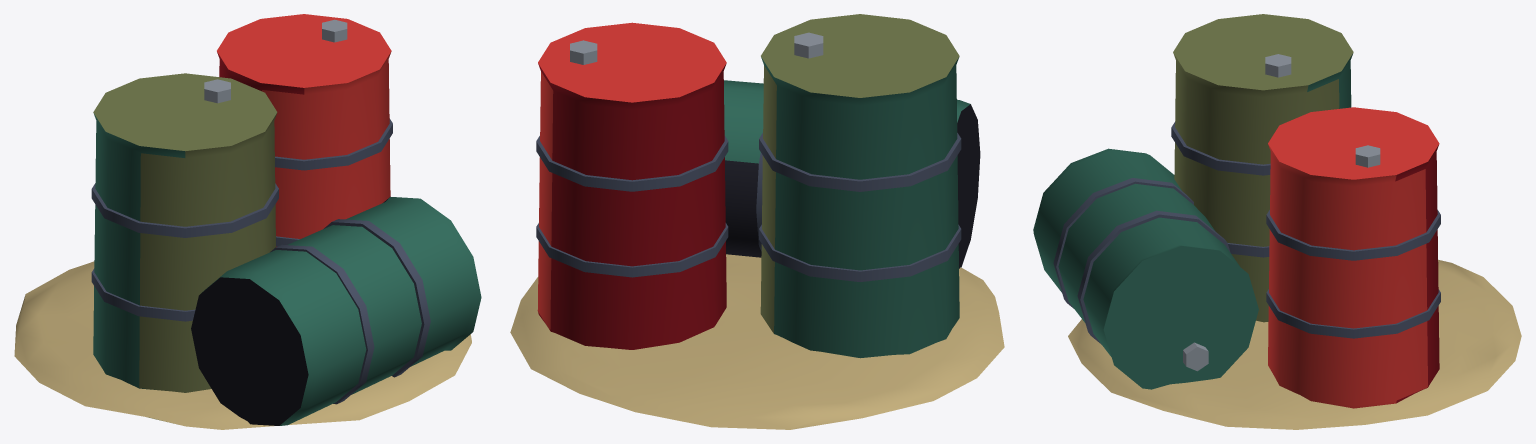
The model's file is OilDrums.fbx.
The picture shows the model from 3 angles, left to right: view 1: azimuth 30°, elevation 25°; view 2: azimuth 150°, elevation 25°; view 3: azimuth 270°, elevation 25°; orthographic projection. The views are drawn at different scales.
Visible parts, largest first — view 1: OilDrums; view 2: OilDrums; view 3: OilDrums.
Part boxes in pixels (box(x1,y1,x2,y2)): OilDrums: box(14, 14, 481, 429); OilDrums: box(510, 14, 1004, 429); OilDrums: box(1033, 14, 1521, 429).
Size of the model in its own units: 1.51 by 0.9545 by 1.62.
Materials: 1 (1 with a texture image).
